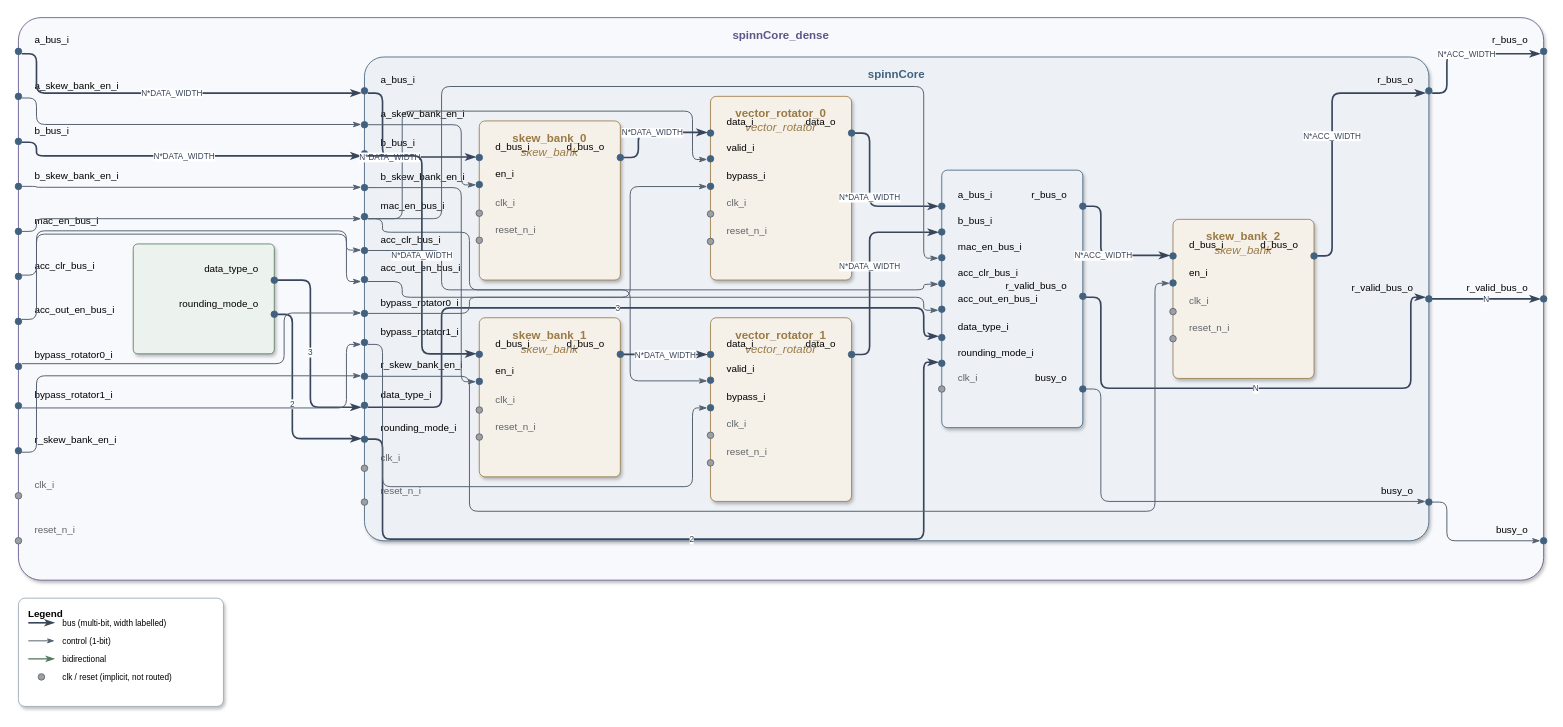
The diagram is 1563 pixels wide and 727 high, and some of its shapes have lost their labels. Here are the shapes that lost their labels. From the top down, the centre of each, then its label:
At [204,300]: "spinnCore_dense_regfile".
At [1013,299]: "spinnArray".
